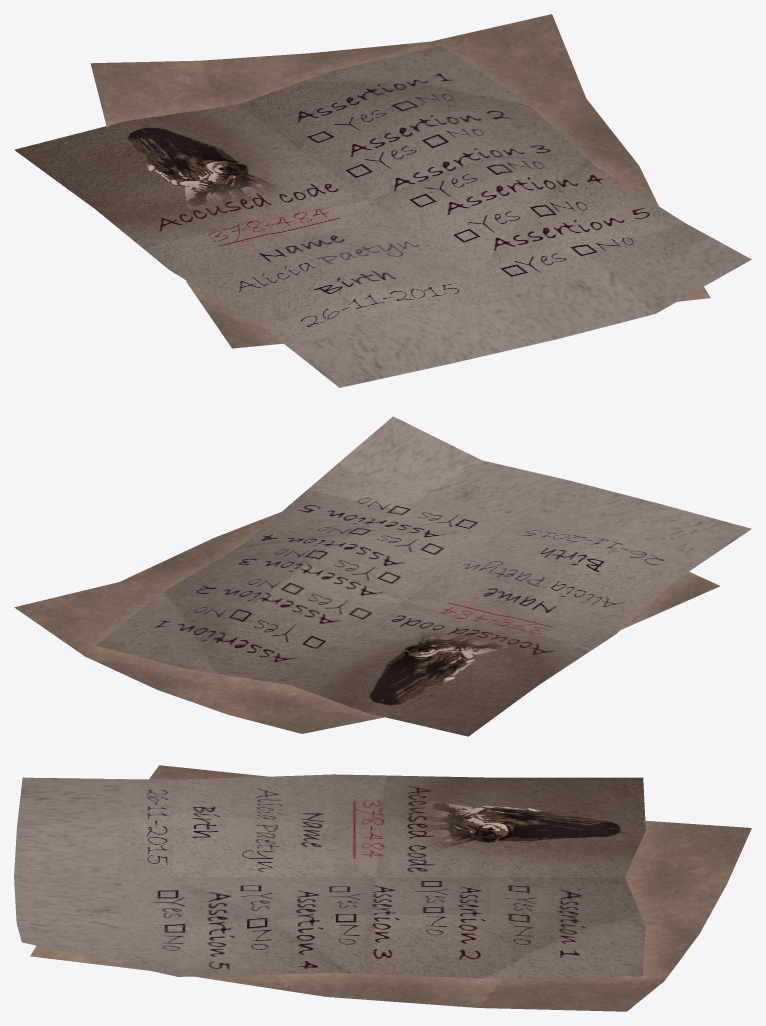
The model's file is paper.fbx.
3 views of the same model, one above another, from view 1: azimuth 30°, elevation 25°; view 2: azimuth 150°, elevation 25°; view 3: azimuth 270°, elevation 25° (orthographic). The views are drawn at different scales.
Parts seen in each view (by area): view 1: Plane.001, paper; view 2: Plane.001, paper; view 3: Plane.001, paper.
Boxes of the visible parts, x1,y1,x2,y2 form: Plane.001: (14, 45, 751, 387); paper: (90, 14, 710, 348); Plane.001: (96, 416, 751, 736); paper: (14, 512, 720, 733); Plane.001: (14, 774, 645, 978); paper: (30, 765, 751, 1011).
Size of the model in its own units: 203 by 17.43 by 240.
1 material, 1 textured.
